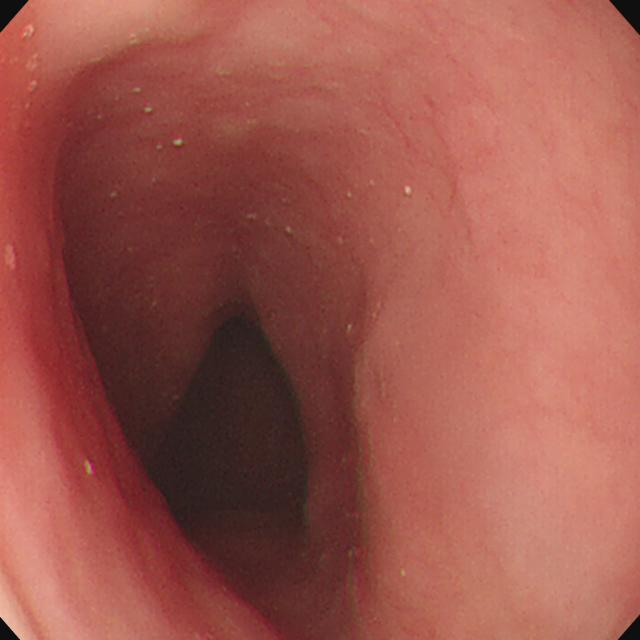E: (173, 320, 305, 514)
J: (26, 53, 41, 95), (5, 244, 18, 274), (20, 23, 36, 43), (175, 137, 185, 149), (404, 186, 414, 198)
